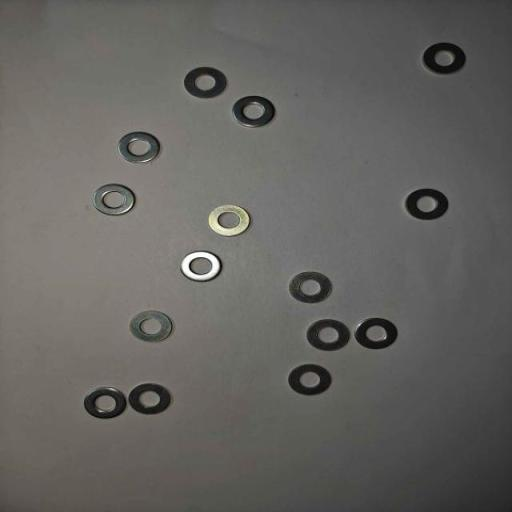Washer: (353, 316, 400, 351), (286, 362, 333, 397), (182, 65, 228, 100), (231, 94, 277, 129), (288, 270, 334, 305), (127, 381, 173, 416), (82, 385, 128, 420), (305, 318, 352, 352), (207, 203, 252, 238), (421, 41, 467, 75), (404, 187, 450, 221), (128, 309, 174, 343), (92, 182, 137, 216), (117, 130, 161, 164), (180, 249, 223, 282)
